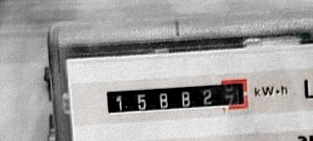1: (113, 92, 124, 111)
2: (201, 87, 213, 105)
5: (135, 92, 147, 110)
7: (224, 93, 235, 104)
8: (156, 91, 169, 108), (179, 89, 191, 107)
screen: (98, 74, 254, 121)
